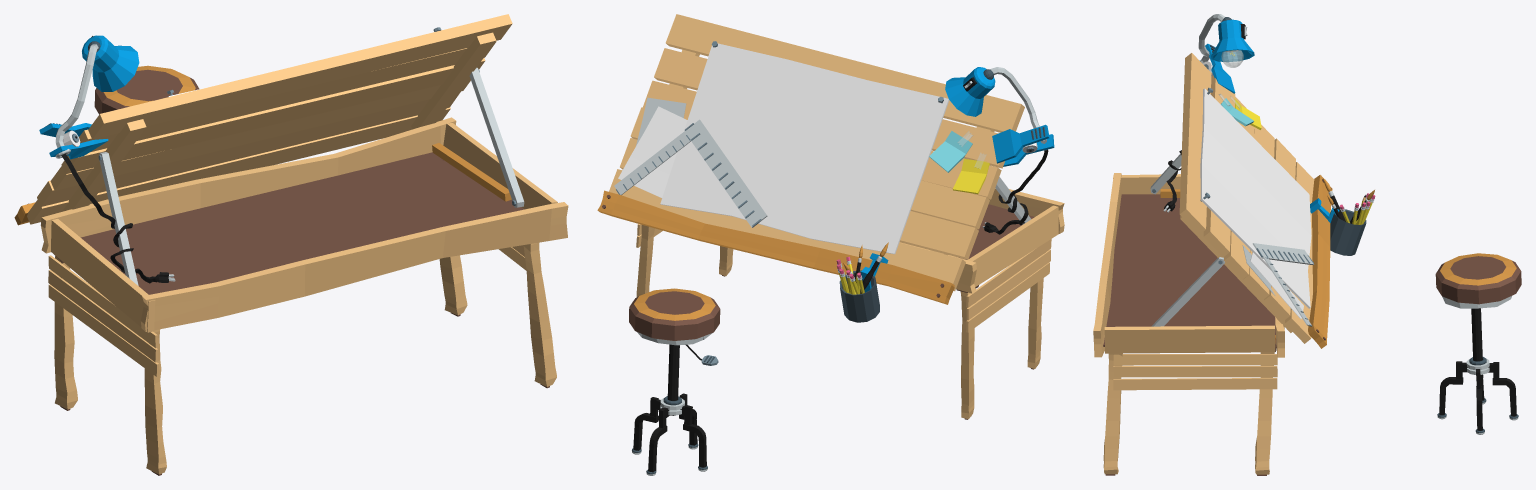
The model's file is Drafting Table.glb.
3 views of the same model, side by side, from view 1: azimuth 30°, elevation 25°; view 2: azimuth 150°, elevation 25°; view 3: azimuth 270°, elevation 25° (orthographic). The views are drawn at different scales.
Visible parts, largest first — view 1: group1231310002, group578319498, group1701808643, group911007008, group1129415776, group1044600959, group521360608, group79405849, group665068937, group1723814382, group1485151735, group678068503 (+6 smaller); view 2: group503491970, group1231310002, group79405849, group1232870484, group1129415776, group1044600959, group805484270, group1954632107, group988883906, group1723814382, group578319498, group1485151735 (+10 smaller); view 3: group578319498, group503491970, group1231310002, group79405849, group665068937, group1232870484, group1129415776, group1701808643, group988883906, group955171567, group153358365, group1839266650 (+6 smaller).
Part boxes in pixels (x1,y1,x2,y2): group1231310002: [27, 14, 512, 224]; group578319498: [81, 152, 524, 294]; group1701808643: [141, 202, 568, 331]; group911007008: [40, 117, 456, 253]; group1129415776: [39, 35, 175, 283]; group1044600959: [51, 219, 155, 332]; group521360608: [523, 242, 556, 388]; group79405849: [94, 65, 199, 114]; group665068937: [443, 123, 557, 209]; group1723814382: [54, 254, 77, 410]; group1485151735: [144, 329, 166, 475]; group678068503: [48, 270, 158, 362]; group503491970: [660, 43, 949, 254]; group1231310002: [609, 14, 1024, 291]; group79405849: [629, 288, 720, 475]; group1232870484: [597, 190, 954, 304]; group1129415776: [945, 67, 1054, 234]; group1044600959: [967, 205, 1062, 286]; group805484270: [618, 106, 687, 197]; group1954632107: [684, 119, 767, 227]; group988883906: [836, 242, 888, 322]; group1723814382: [956, 285, 978, 419]; group578319498: [959, 204, 1034, 259]; group1485151735: [1027, 252, 1045, 369]; group578319498: [1103, 194, 1276, 348]; group503491970: [1200, 88, 1311, 308]; group1231310002: [1179, 53, 1314, 343]; group79405849: [1435, 253, 1521, 434]; group665068937: [1104, 325, 1275, 353]; group1232870484: [1308, 175, 1332, 348]; group1129415776: [1163, 14, 1254, 212]; group1701808643: [1093, 173, 1121, 357]; group988883906: [1310, 178, 1375, 255]; group955171567: [1113, 378, 1277, 390]; group153358365: [1113, 366, 1277, 377]; group1839266650: [1113, 354, 1277, 365].
Size of the model in its own units: 5.69 by 4.72 by 5.75.
